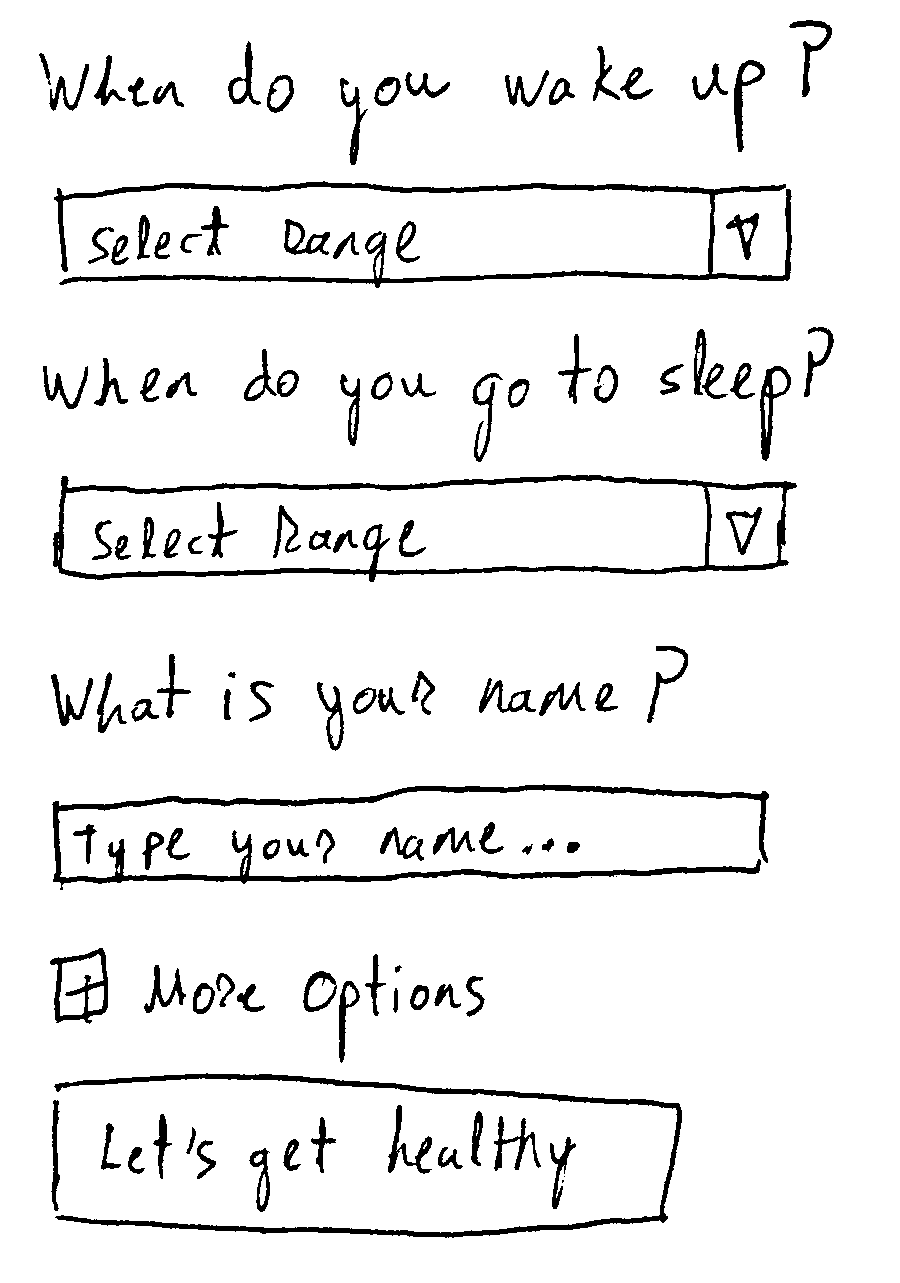Button: (46, 1068, 689, 1241)
Select: (50, 174, 803, 288), (52, 474, 801, 588)
